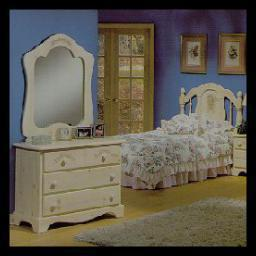Armario: (17, 139, 125, 223)
